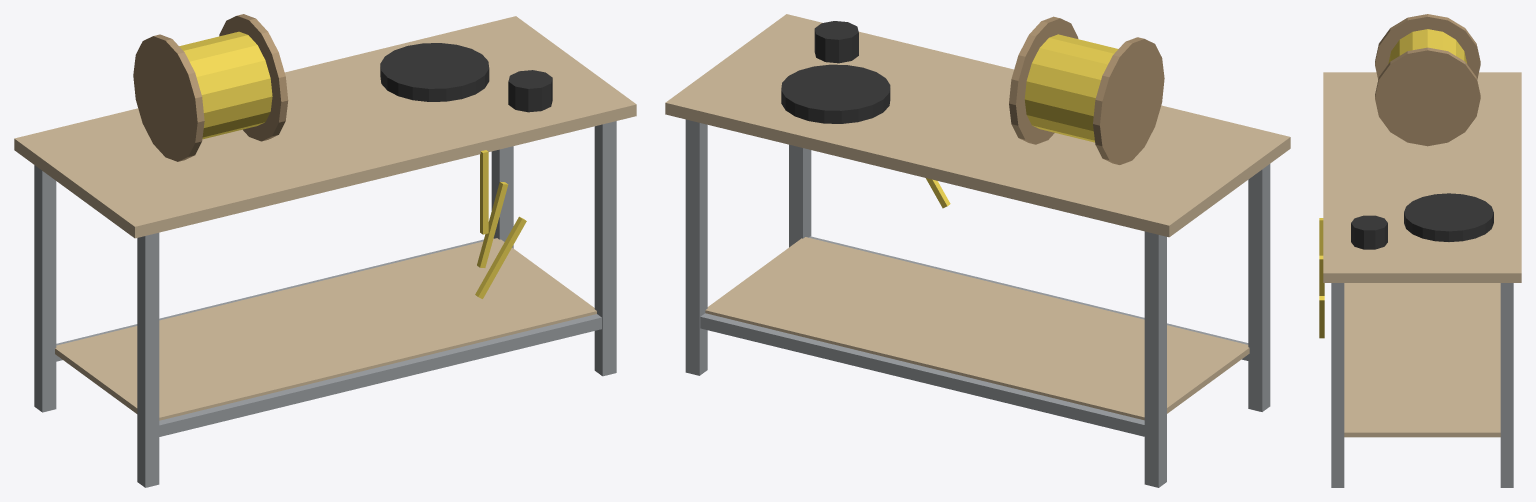
Rendered from standin_cable_workbench.glb.
3 renders of one model, left to right at view 1: azimuth 30°, elevation 25°; view 2: azimuth 150°, elevation 25°; view 3: azimuth 270°, elevation 25°, orthographic. The views are drawn at different scales.
Parts seen in each view (by area): view 1: standin_cable_workbench; view 2: standin_cable_workbench; view 3: standin_cable_workbench.
Boxes of the visible parts, box(x1,y1,x2,y2) form: standin_cable_workbench: box(14, 14, 636, 487); standin_cable_workbench: box(665, 14, 1290, 487); standin_cable_workbench: box(1319, 14, 1521, 487).
Size of the model in its own units: 1.8 by 1.32 by 0.765.
